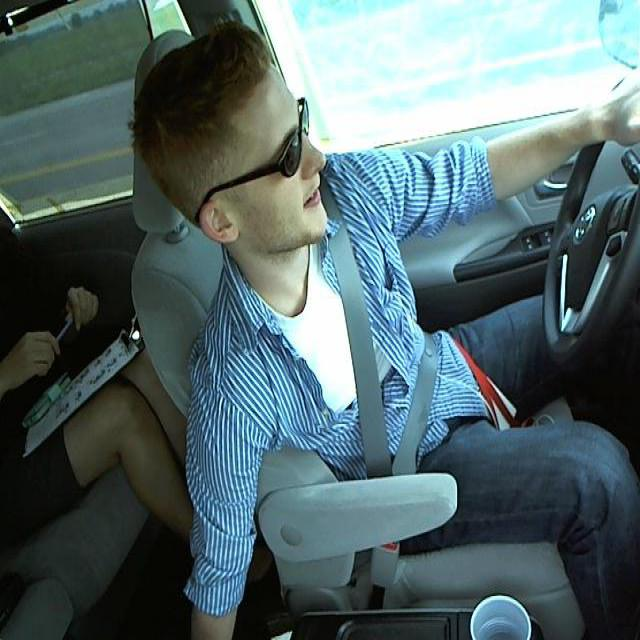seatbelt: (322, 236, 444, 476)
